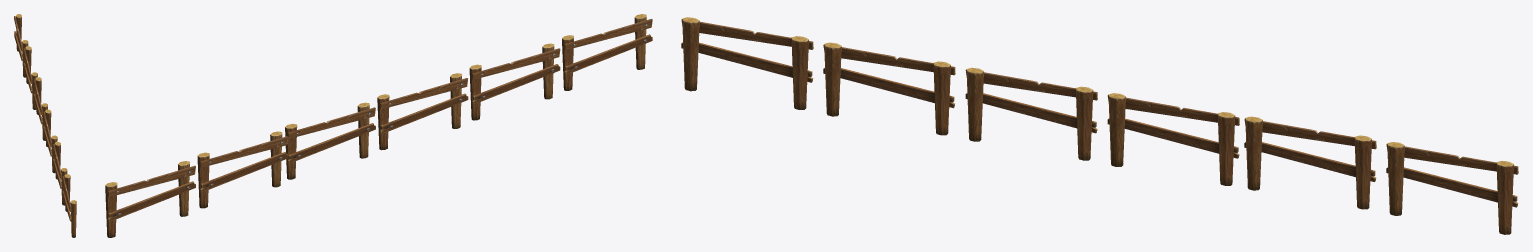
The model's file is Area_08_20.fbx.
3 renders of one model, left to right at view 1: azimuth 30°, elevation 25°; view 2: azimuth 150°, elevation 25°; view 3: azimuth 270°, elevation 25°, orthographic. The views are drawn at different scales.
Parts seen in each view (by area): view 1: Area_08_20; view 2: Area_08_20; view 3: Area_08_20.
Boxes of the visible parts, x1,y1,x2,y2 form: Area_08_20: (14, 14, 76, 237); Area_08_20: (105, 14, 652, 237); Area_08_20: (681, 17, 1518, 234).
Size of the model in its own units: 662 by 142 by 1524.
